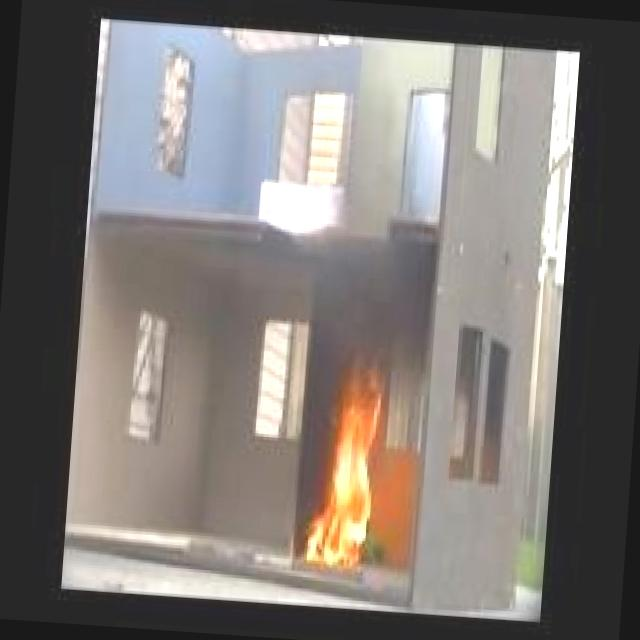fire: (285, 348, 412, 574)
